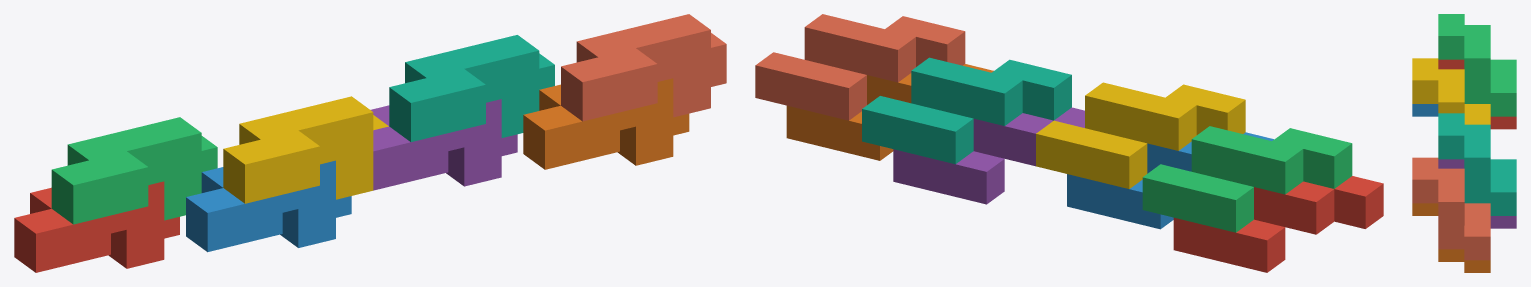
Rendered from tiling.obj.
3 renders of one model, left to right at view 1: azimuth 30°, elevation 25°; view 2: azimuth 150°, elevation 25°; view 3: azimuth 270°, elevation 25°, orthographic. The views are drawn at different scales.
Parts seen in each view (by area): view 1: copy_1_domain_8, copy_1_domain_3, copy_1_domain_7, copy_1_domain_4, copy_1_domain_6, copy_1_domain_1, copy_1_domain_2, copy_1_domain_5; view 2: copy_1_domain_3, copy_1_domain_7, copy_1_domain_8, copy_1_domain_4, copy_1_domain_1, copy_1_domain_5, copy_1_domain_6, copy_1_domain_2; view 3: copy_1_domain_8, copy_1_domain_7, copy_1_domain_3, copy_1_domain_4, copy_1_domain_6, copy_1_domain_1, copy_1_domain_5, copy_1_domain_2.
Part boxes in pixels (x1,y1,x2,y2): copy_1_domain_8: (561, 14, 726, 121); copy_1_domain_3: (51, 117, 217, 224); copy_1_domain_7: (389, 35, 554, 141); copy_1_domain_4: (223, 96, 388, 203); copy_1_domain_6: (523, 78, 689, 169); copy_1_domain_1: (14, 181, 179, 272); copy_1_domain_2: (186, 160, 351, 252); copy_1_domain_5: (371, 99, 517, 190); copy_1_domain_3: (1142, 126, 1352, 232); copy_1_domain_7: (862, 57, 1071, 164); copy_1_domain_8: (755, 14, 965, 120); copy_1_domain_4: (1036, 82, 1245, 188); copy_1_domain_1: (1173, 176, 1383, 272); copy_1_domain_5: (893, 107, 1084, 204); copy_1_domain_6: (786, 64, 993, 160); copy_1_domain_2: (1067, 132, 1273, 229); copy_1_domain_8: (1412, 157, 1490, 260); copy_1_domain_7: (1438, 113, 1516, 215); copy_1_domain_3: (1438, 14, 1516, 116); copy_1_domain_4: (1412, 58, 1490, 124); copy_1_domain_6: (1412, 203, 1490, 272); copy_1_domain_1: (1438, 59, 1516, 129); copy_1_domain_5: (1438, 159, 1516, 228); copy_1_domain_2: (1412, 104, 1438, 116).
Bounding box in the file's own units: 19 × 3 × 4.
